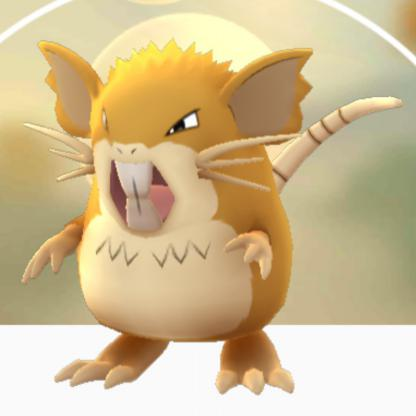Raticate: (11, 26, 402, 402)
